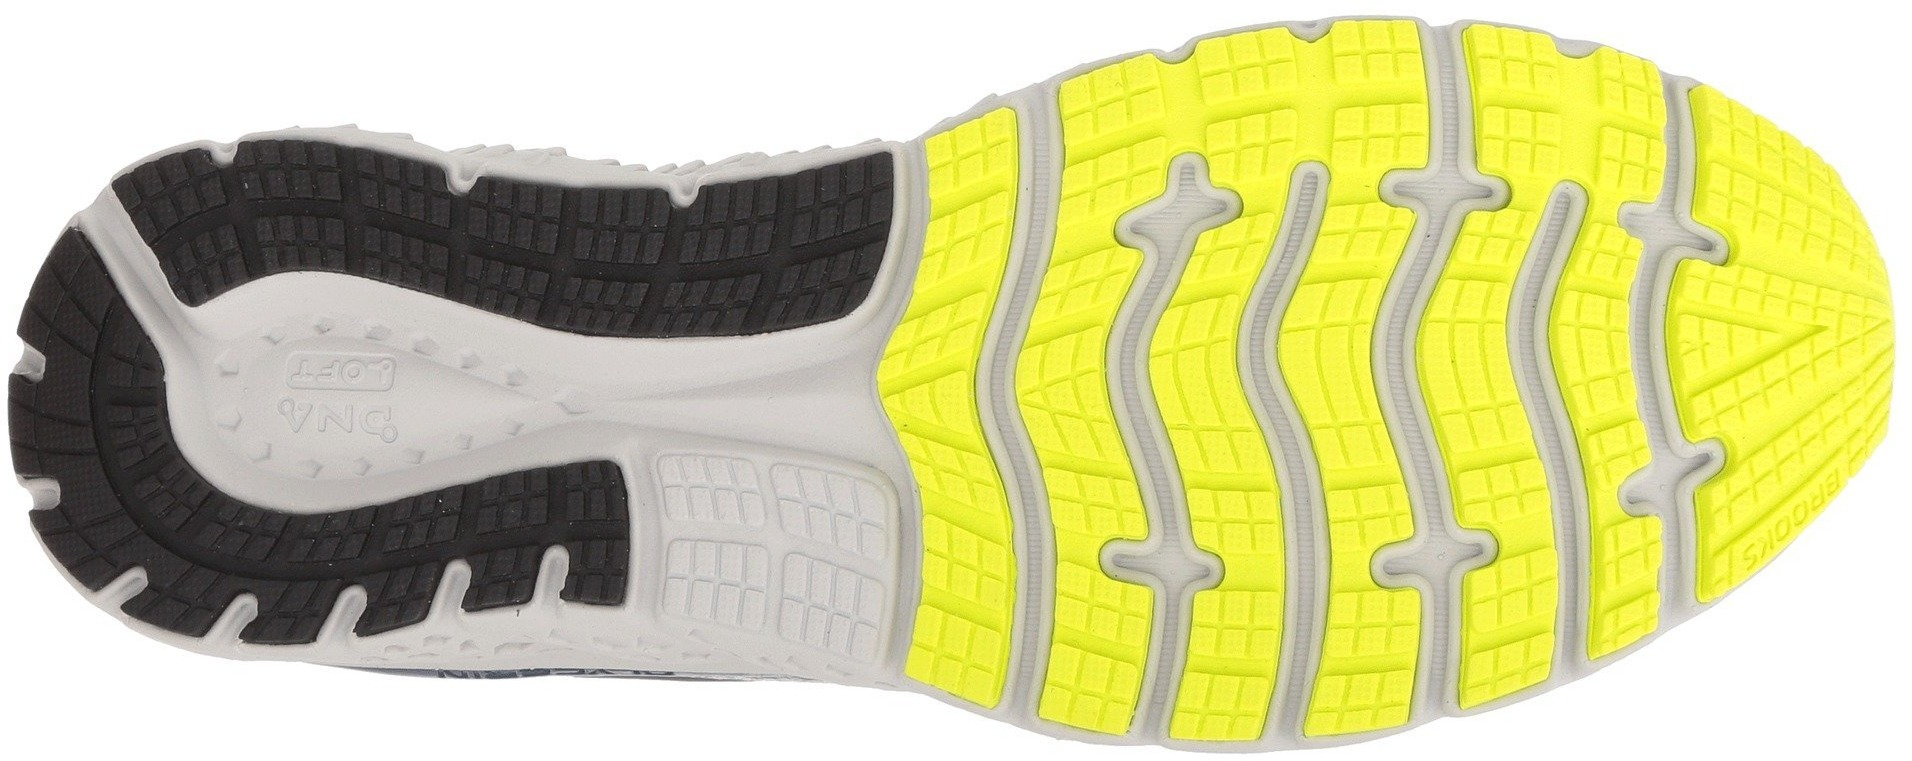quad: (995, 12, 1460, 759), (651, 443, 895, 672), (1478, 27, 1664, 187), (1169, 590, 1277, 740), (1457, 552, 1551, 709), (1197, 26, 1300, 116), (1597, 513, 1662, 654), (1207, 109, 1297, 188), (1189, 487, 1278, 559), (1325, 20, 1421, 85)
ribbon: (1401, 18, 1674, 731)
